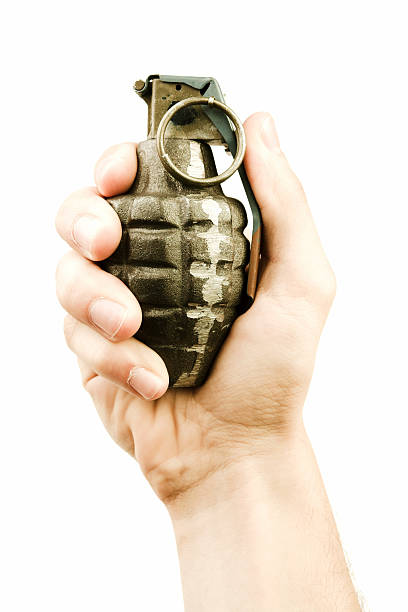e1: (98, 76, 263, 393)
